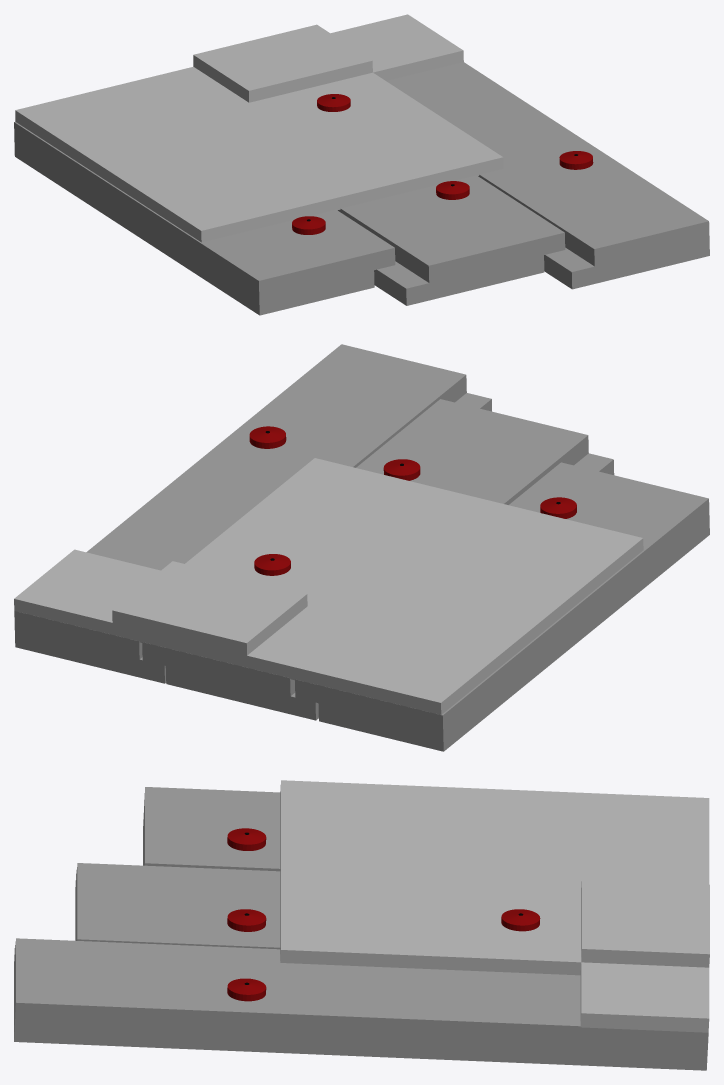
The model's file is platform1.glb.
The picture shows the model from 3 angles, top to bottom: view 1: azimuth 30°, elevation 25°; view 2: azimuth 150°, elevation 25°; view 3: azimuth 270°, elevation 25°; orthographic projection. The views are drawn at different scales.
Parts seen in each view (by area): view 1: MetalPlatform, WhitePlatform, Цилиндр; view 2: WhitePlatform, MetalPlatform, Цилиндр; view 3: WhitePlatform, MetalPlatform, Цилиндр.
Part boxes in pixels (bbox=[...]): MetalPlatform: bbox=[14, 62, 709, 315]; WhitePlatform: bbox=[15, 14, 503, 242]; Цилиндр: bbox=[292, 94, 593, 234]; WhitePlatform: bbox=[14, 458, 643, 714]; MetalPlatform: bbox=[14, 344, 709, 751]; Цилиндр: bbox=[249, 426, 576, 575]; WhitePlatform: bbox=[280, 780, 709, 1032]; MetalPlatform: bbox=[14, 787, 708, 1070]; Цилиндр: bbox=[227, 828, 540, 1001].
Size of the model in its own units: 2.26 by 0.3378 by 3.
